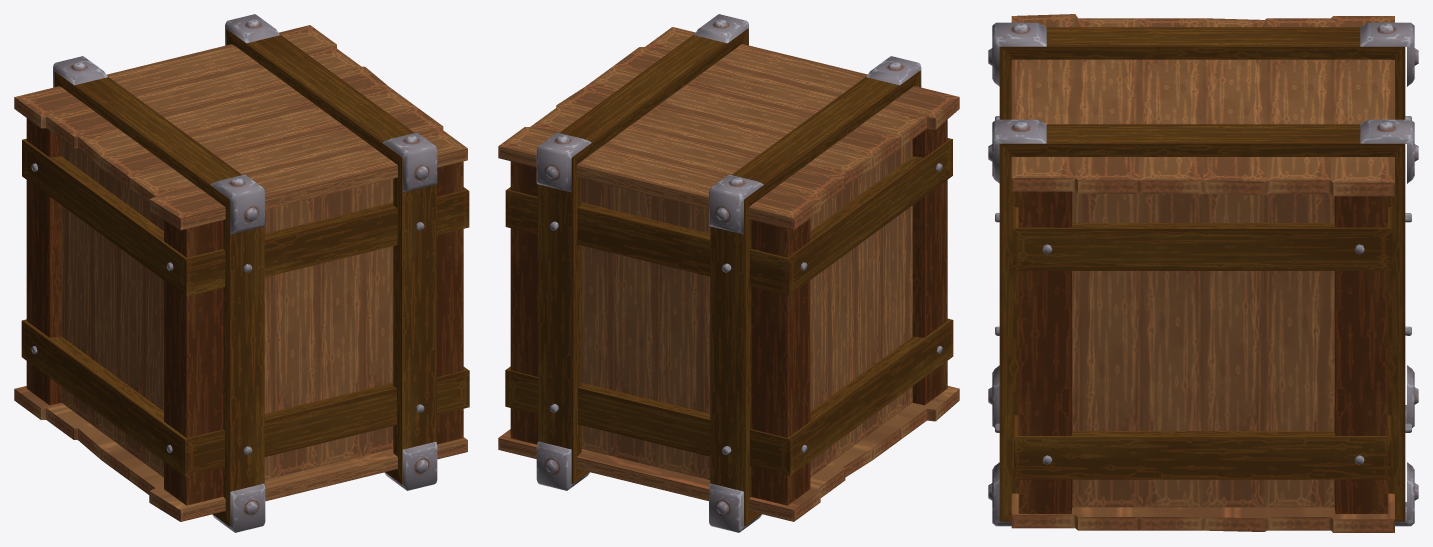
Rendered from Crate_Wooden.glb.
3 views of the same model, side by side, from view 1: azimuth 30°, elevation 25°; view 2: azimuth 150°, elevation 25°; view 3: azimuth 270°, elevation 25° (orthographic). The views are drawn at different scales.
Parts seen in each view (by area): view 1: Crate_Wooden; view 2: Crate_Wooden; view 3: Crate_Wooden.
Part boxes in pixels (x1,y1,x2,y2): Crate_Wooden: (14,14,469,532); Crate_Wooden: (498,14,959,532); Crate_Wooden: (988,14,1418,532).
Size of the model in its own units: 0.8423 by 0.9309 by 0.9083.
Materials: 2 (2 with a texture image).
